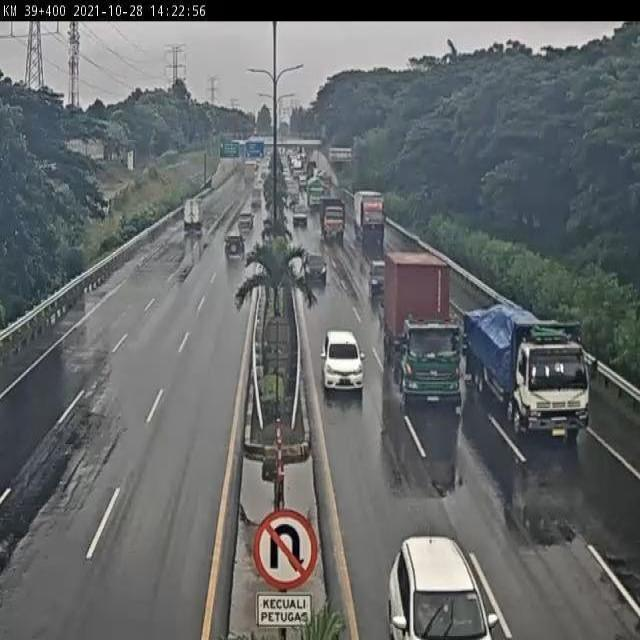Car: (390, 533, 500, 640), (320, 330, 366, 398), (302, 252, 328, 285), (369, 257, 388, 299), (223, 231, 247, 261), (236, 209, 254, 230)
Truck: (460, 302, 598, 438), (382, 247, 466, 404), (352, 190, 386, 245), (319, 193, 345, 242), (182, 198, 207, 232), (304, 175, 325, 208), (243, 160, 258, 184)
